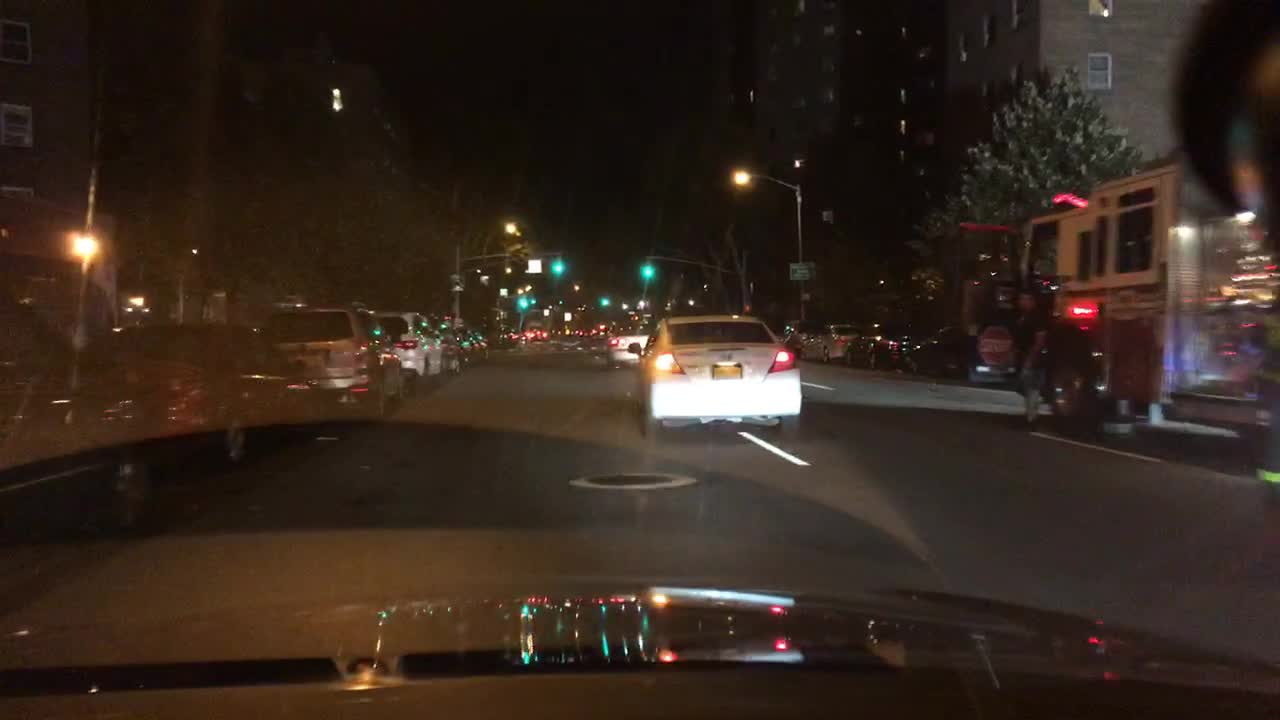car: (0, 296, 167, 539), (102, 319, 326, 460), (629, 310, 803, 432), (267, 299, 407, 419), (387, 308, 442, 386), (908, 327, 979, 383), (845, 323, 917, 369), (804, 323, 855, 360), (606, 321, 643, 365), (437, 315, 461, 368), (779, 319, 814, 352), (455, 325, 479, 363), (474, 332, 491, 357), (525, 329, 553, 342), (503, 330, 523, 343), (579, 327, 597, 337)
person: (1005, 289, 1056, 433)
traffic light: (639, 260, 653, 279), (554, 256, 563, 275), (518, 296, 527, 311), (600, 292, 608, 306)
traffic sign: (790, 261, 817, 280), (449, 272, 463, 290), (527, 258, 540, 270)
truck: (953, 150, 1279, 448)
